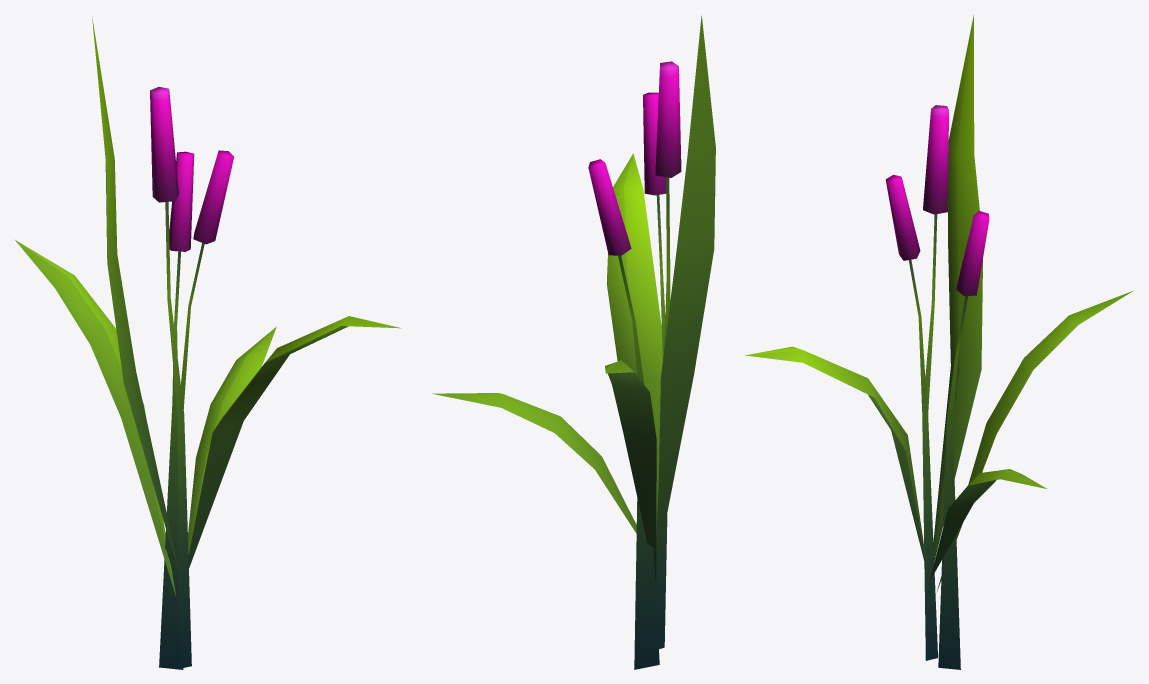
Rendered from Reed_1B.fbx.
3 renders of one model, left to right at view 1: azimuth 30°, elevation 25°; view 2: azimuth 150°, elevation 25°; view 3: azimuth 270°, elevation 25°, orthographic. The views are drawn at different scales.
Visible parts, largest first — view 1: Reed_1B; view 2: Reed_1B; view 3: Reed_1B.
Boxes of the visible parts, bbox=[...] form: Reed_1B: bbox=[14, 16, 401, 669]; Reed_1B: bbox=[432, 15, 715, 669]; Reed_1B: bbox=[745, 15, 1132, 669].
Size of the model in its own units: 66.05 by 186 by 106.
